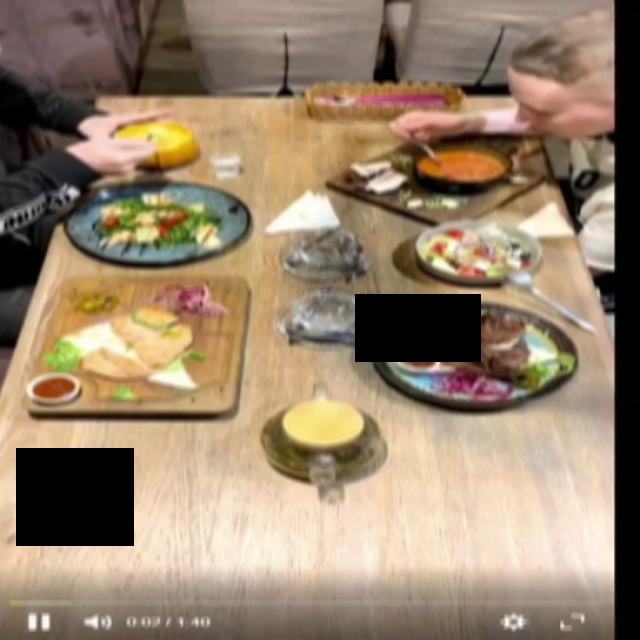meat: (23, 281, 248, 413), (366, 300, 579, 408)
salad: (60, 182, 247, 265), (414, 220, 544, 285)
soup: (323, 134, 548, 226), (112, 121, 200, 169)
tea: (237, 372, 417, 511)
